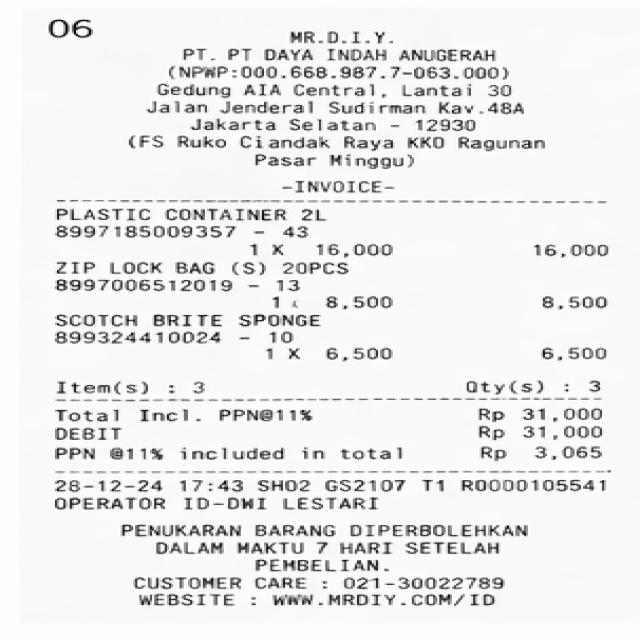date: (42, 478, 252, 496)
store: (279, 28, 398, 47)
total: (49, 404, 611, 425)
